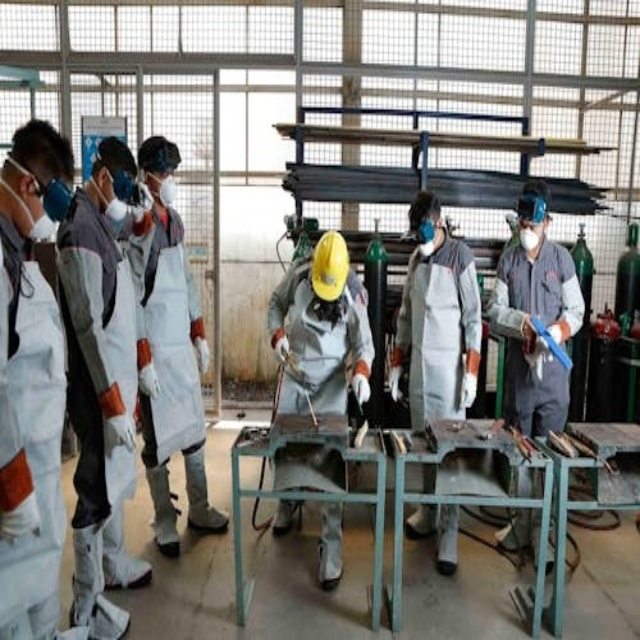Gafas: (33, 169, 81, 227), (403, 213, 436, 246), (108, 165, 137, 202)
Guantes: (100, 407, 142, 465), (191, 332, 219, 381), (137, 356, 164, 404), (456, 369, 483, 413), (383, 359, 406, 406), (348, 373, 372, 417), (268, 329, 292, 367)
Mascara: (28, 213, 56, 248), (156, 171, 179, 206), (104, 198, 127, 223), (516, 231, 538, 256), (419, 233, 436, 261)
Sin_gafas: (518, 213, 541, 233)
